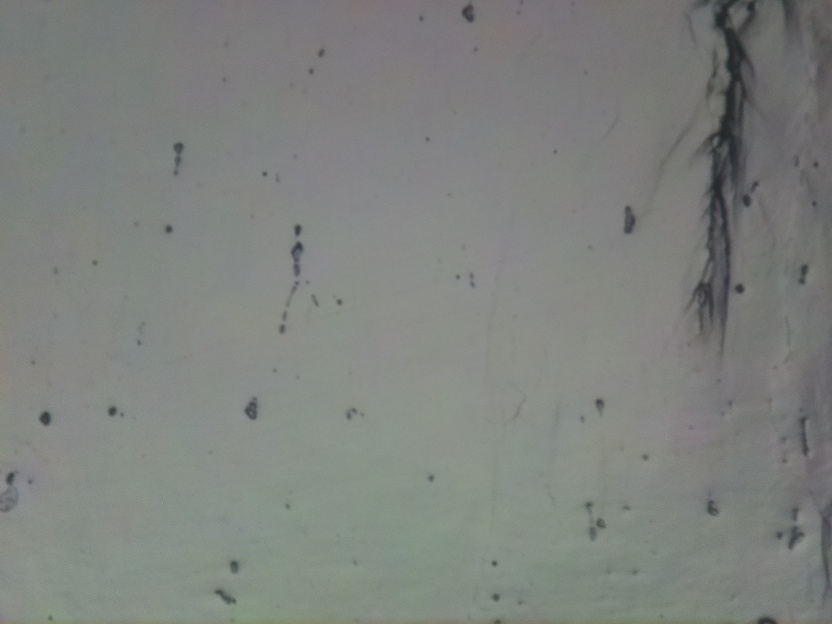crack: (679, 0, 753, 330)
